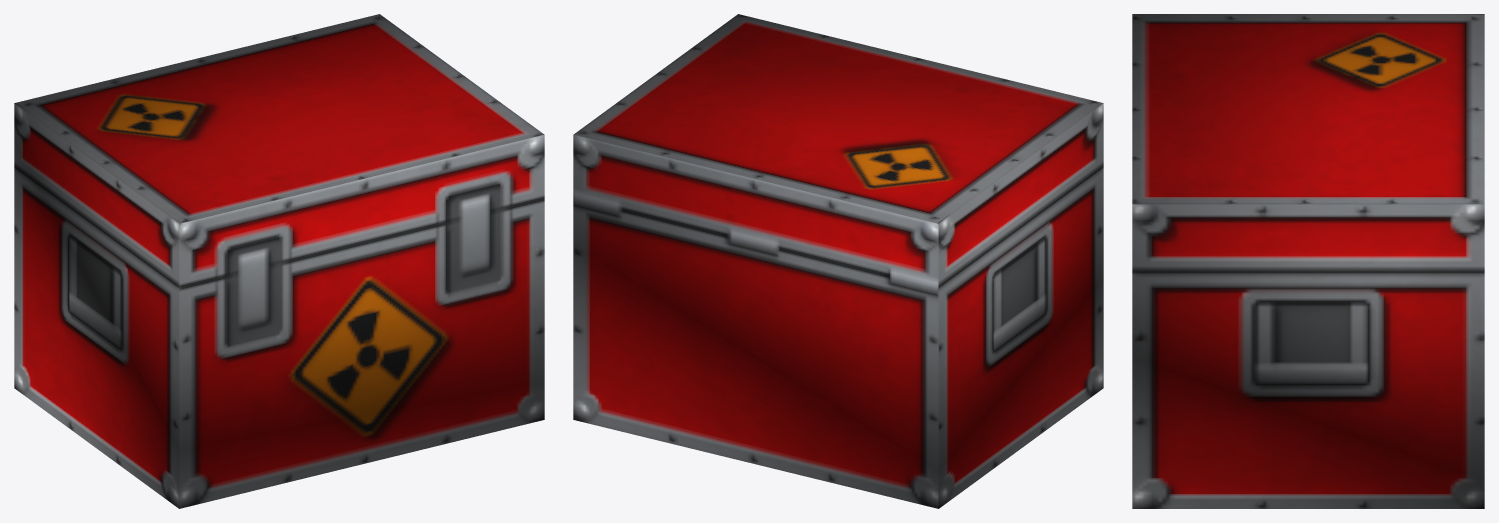
The model's file is metal_crate_03.fbx.
The picture shows the model from 3 angles, left to right: view 1: azimuth 30°, elevation 25°; view 2: azimuth 150°, elevation 25°; view 3: azimuth 270°, elevation 25°; orthographic projection. The views are drawn at different scales.
Visible parts, largest first — view 1: Mesh; view 2: Mesh; view 3: Mesh.
Boxes of the visible parts, x1,y1,x2,y2 form: Mesh: (14,14,544,508); Mesh: (573,14,1103,508); Mesh: (1132,14,1484,508).
Size of the model in its own units: 109 by 81.32 by 85.26.
